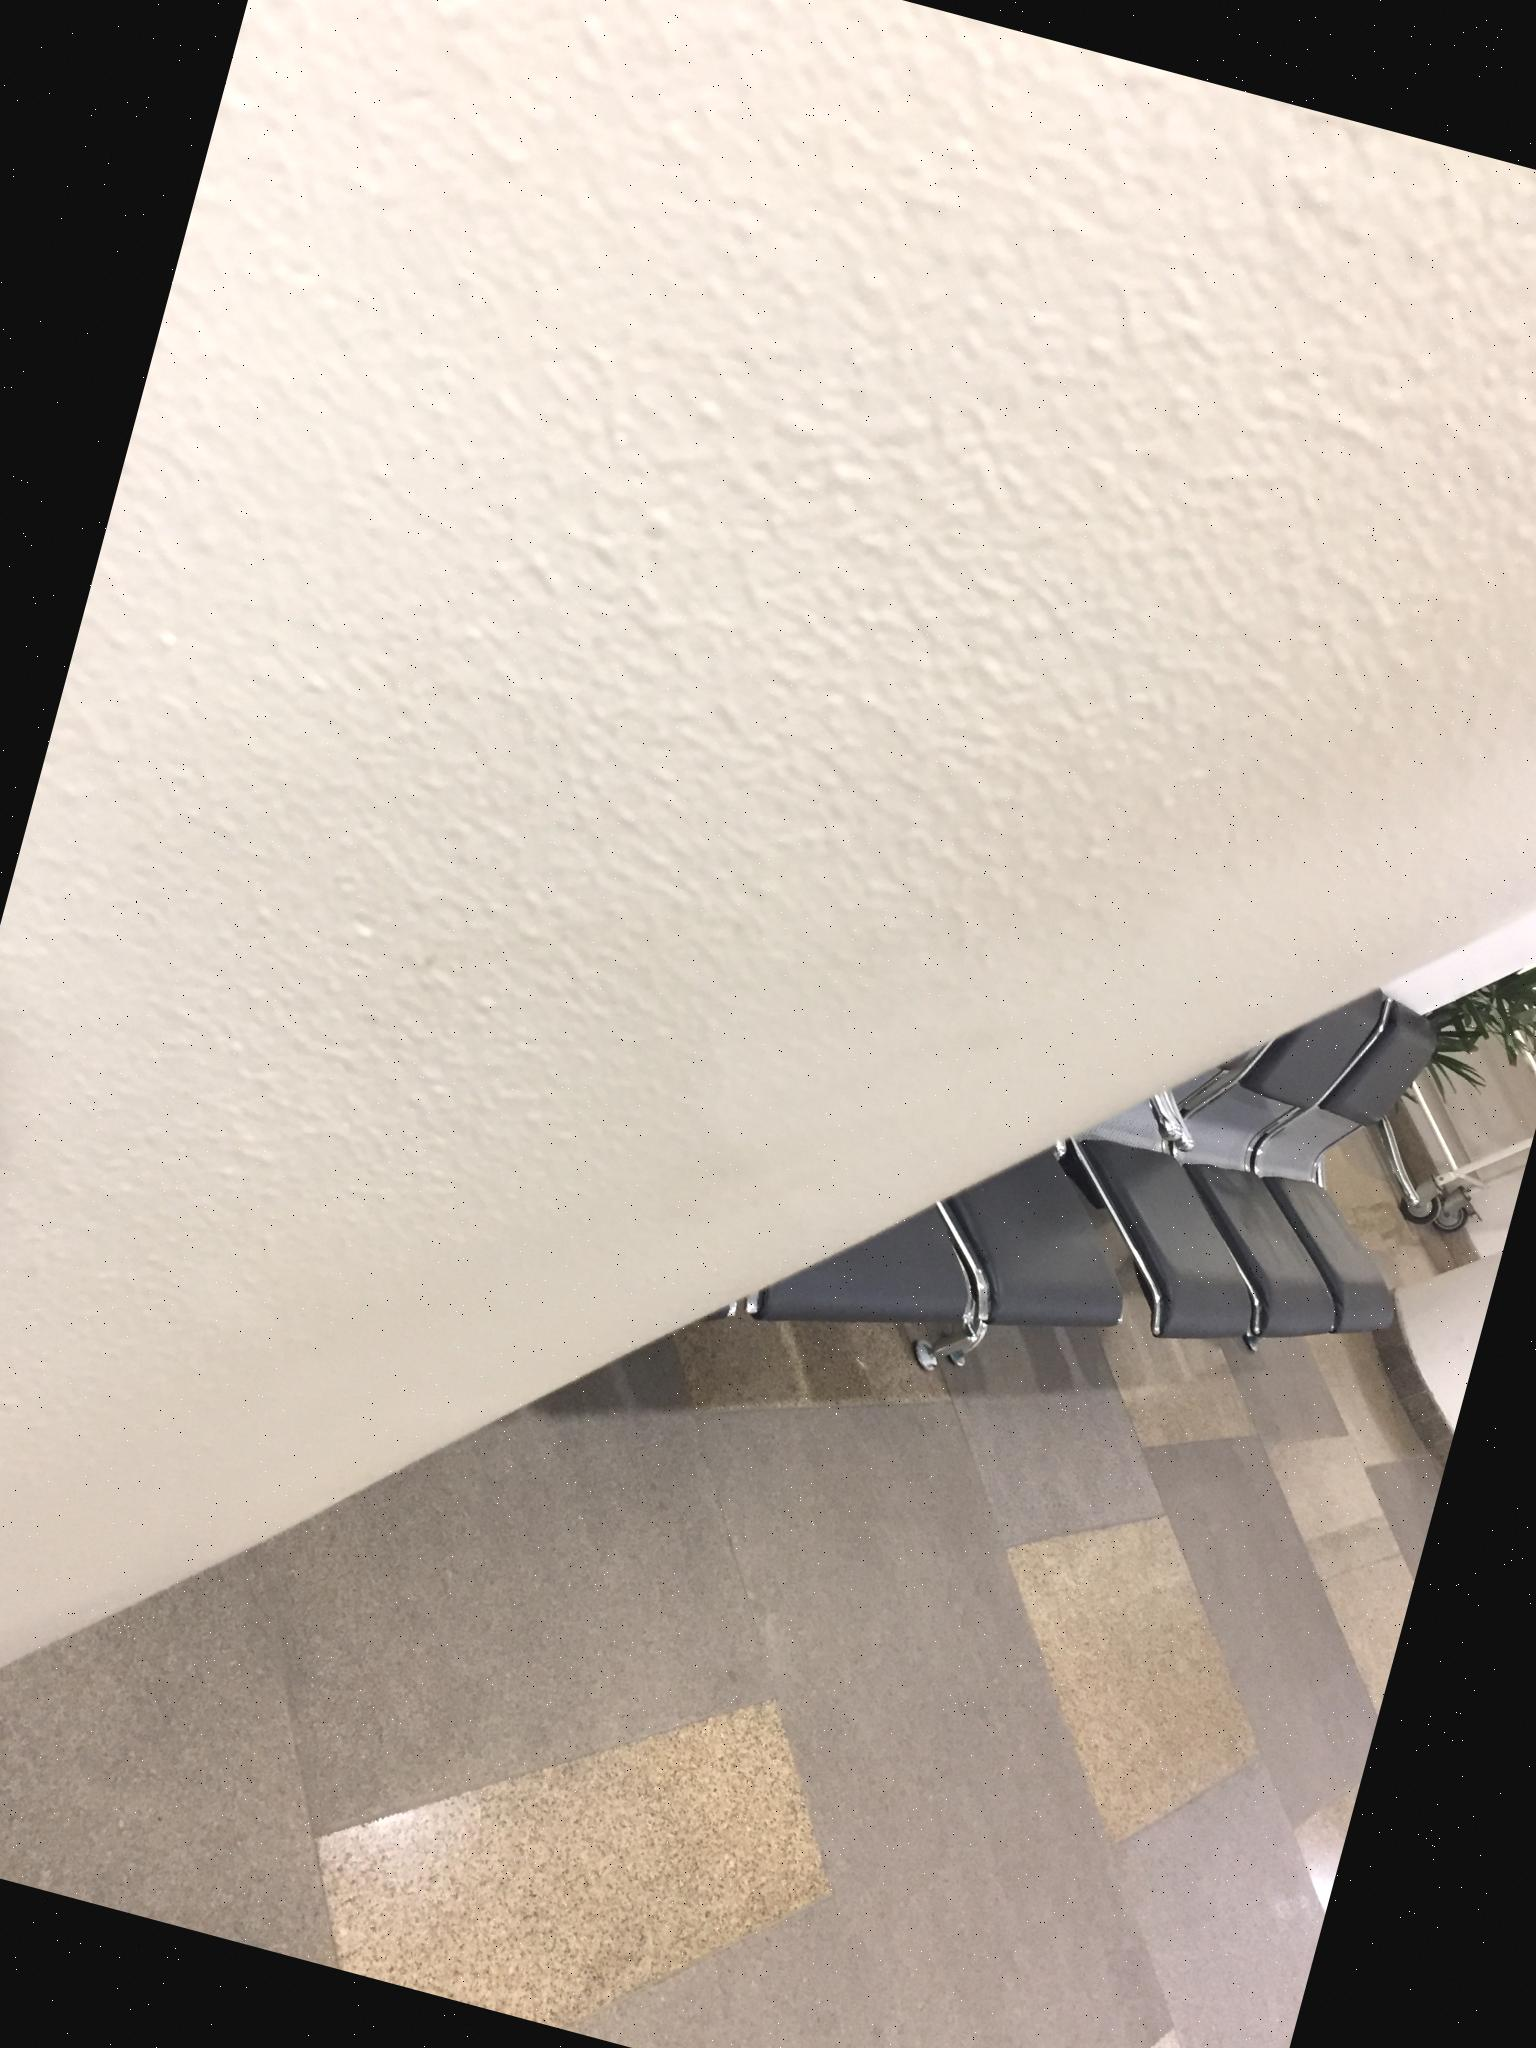chair: (182, 797, 1144, 1485), (1120, 974, 1536, 1406)
